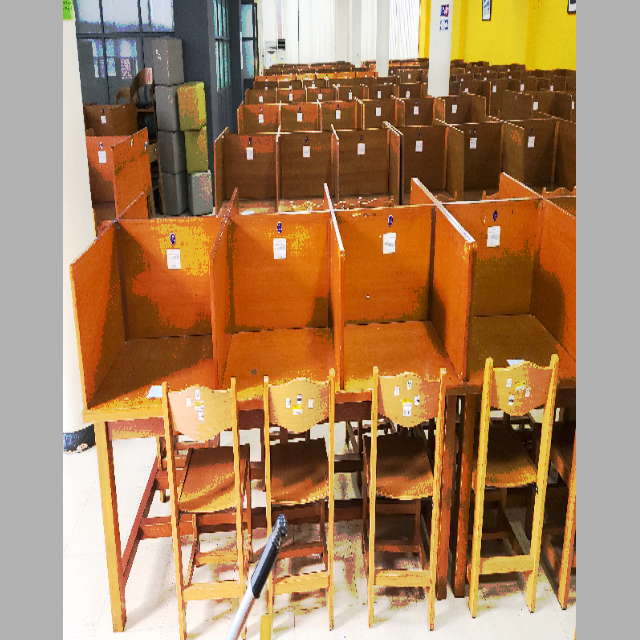empty: (69, 244, 216, 506), (223, 243, 342, 501), (346, 234, 465, 482)
